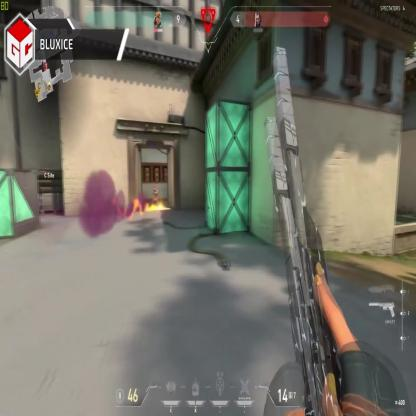enemy: (152, 184, 158, 210)
enemy_head: (154, 186, 156, 192)
